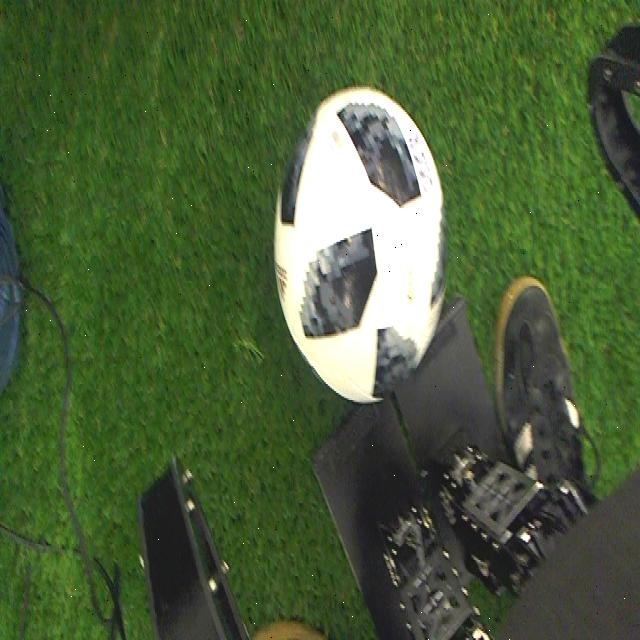ball: (273, 85, 449, 407)
